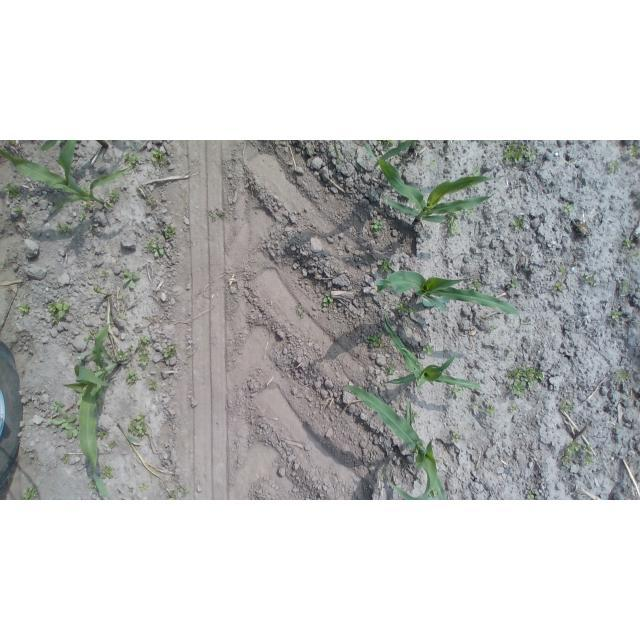Maize: (340, 382, 449, 500), (62, 316, 122, 500), (0, 141, 130, 214), (381, 311, 481, 390), (94, 286, 134, 367)
Weeds: (508, 365, 543, 399), (51, 401, 80, 440), (562, 439, 595, 467), (504, 143, 535, 165), (48, 299, 70, 324), (127, 413, 149, 436), (145, 234, 165, 258), (137, 333, 152, 365), (122, 270, 142, 290), (446, 211, 461, 236), (151, 149, 170, 168), (365, 333, 385, 349), (123, 151, 140, 167), (170, 485, 188, 500), (22, 485, 39, 500), (379, 259, 393, 276), (582, 273, 597, 288), (4, 184, 21, 197), (395, 303, 415, 314), (56, 221, 73, 233), (370, 219, 384, 233), (163, 343, 177, 357), (84, 329, 97, 344), (116, 347, 129, 362), (100, 465, 113, 480), (127, 372, 141, 385), (611, 308, 623, 323), (469, 279, 483, 291), (451, 384, 464, 396), (109, 188, 120, 202), (166, 225, 177, 239), (323, 293, 334, 307), (450, 429, 461, 443), (616, 369, 628, 381), (422, 343, 434, 355), (561, 400, 572, 413), (19, 302, 29, 316), (629, 144, 640, 156), (508, 279, 520, 290), (469, 166, 480, 178), (384, 363, 394, 376), (551, 281, 563, 291), (96, 428, 108, 438), (382, 140, 397, 148), (512, 220, 521, 233), (485, 405, 495, 416), (609, 160, 618, 172), (99, 267, 109, 277), (428, 487, 438, 497), (563, 204, 574, 213), (107, 440, 117, 449), (83, 200, 93, 209), (528, 489, 537, 499), (620, 281, 628, 292), (471, 402, 482, 410), (96, 399, 104, 410), (88, 481, 97, 490), (296, 308, 304, 318), (13, 206, 24, 213), (412, 413, 419, 424), (623, 239, 631, 248), (632, 250, 640, 259), (559, 267, 567, 276), (149, 381, 158, 389), (466, 207, 474, 215), (61, 456, 69, 464), (128, 485, 136, 493), (140, 484, 149, 491), (92, 365, 100, 372), (220, 212, 226, 221), (119, 314, 128, 320), (510, 406, 517, 413), (489, 325, 497, 331), (89, 225, 96, 231), (79, 214, 85, 221), (147, 199, 154, 205), (430, 159, 436, 166), (6, 140, 15, 144), (381, 472, 387, 478), (129, 345, 136, 350), (614, 424, 621, 429), (480, 141, 489, 144), (508, 350, 513, 355), (213, 215, 216, 221)
